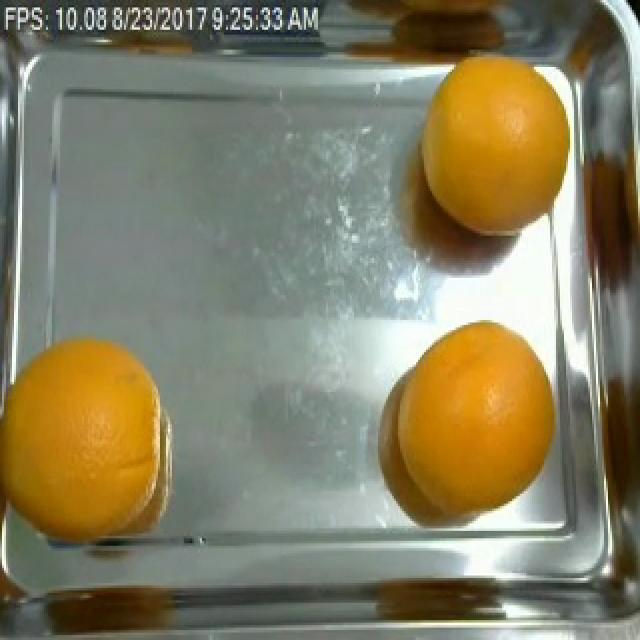Fruit: (396, 28, 572, 256)
